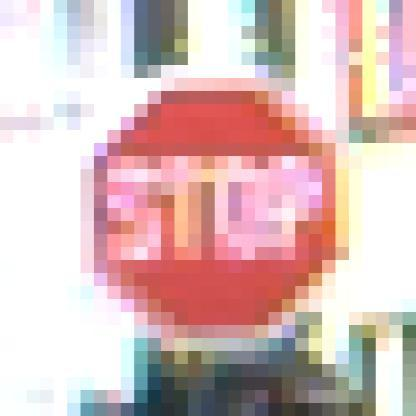Stop: (83, 76, 352, 344)
